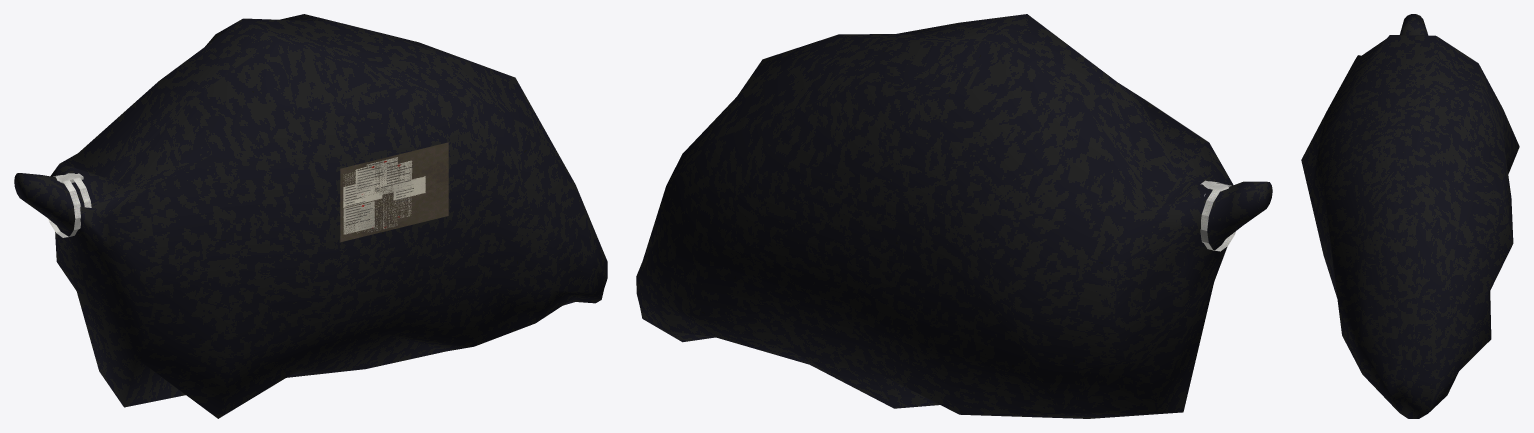
Rendered from body_bag.glb.
3 views of the same model, side by side, from view 1: azimuth 30°, elevation 25°; view 2: azimuth 150°, elevation 25°; view 3: azimuth 270°, elevation 25° (orthographic). The views are drawn at different scales.
Visible parts, largest first — view 1: body_bag; view 2: body_bag; view 3: body_bag.
Part boxes in pixels (<box>): body_bag: <box>14,14,607,418</box>; body_bag: <box>636,14,1272,418</box>; body_bag: <box>1301,14,1519,418</box>.
Bounding box in the file's own units: 0.6 × 0.368 × 0.2675.
3 materials, 3 textured.
